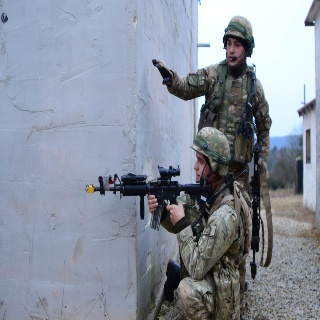rifle: (85, 165, 219, 230), (249, 141, 265, 281)
